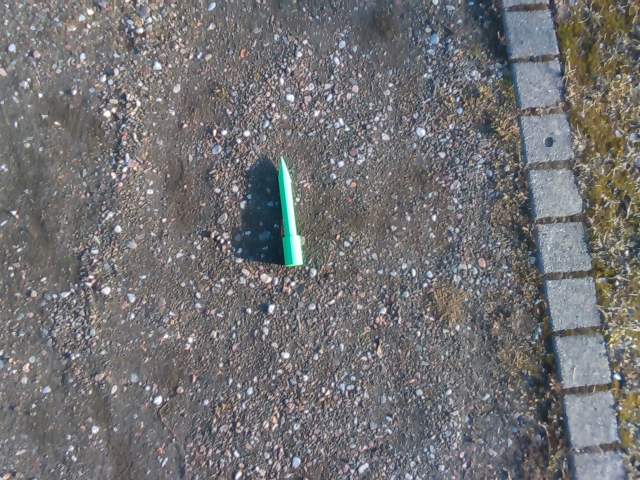Probe: (273, 149, 306, 272)
